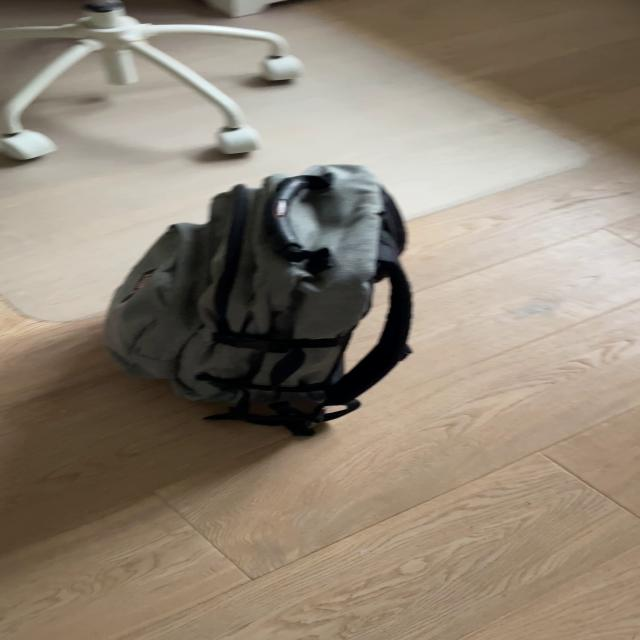backpack: (88, 148, 423, 442)
